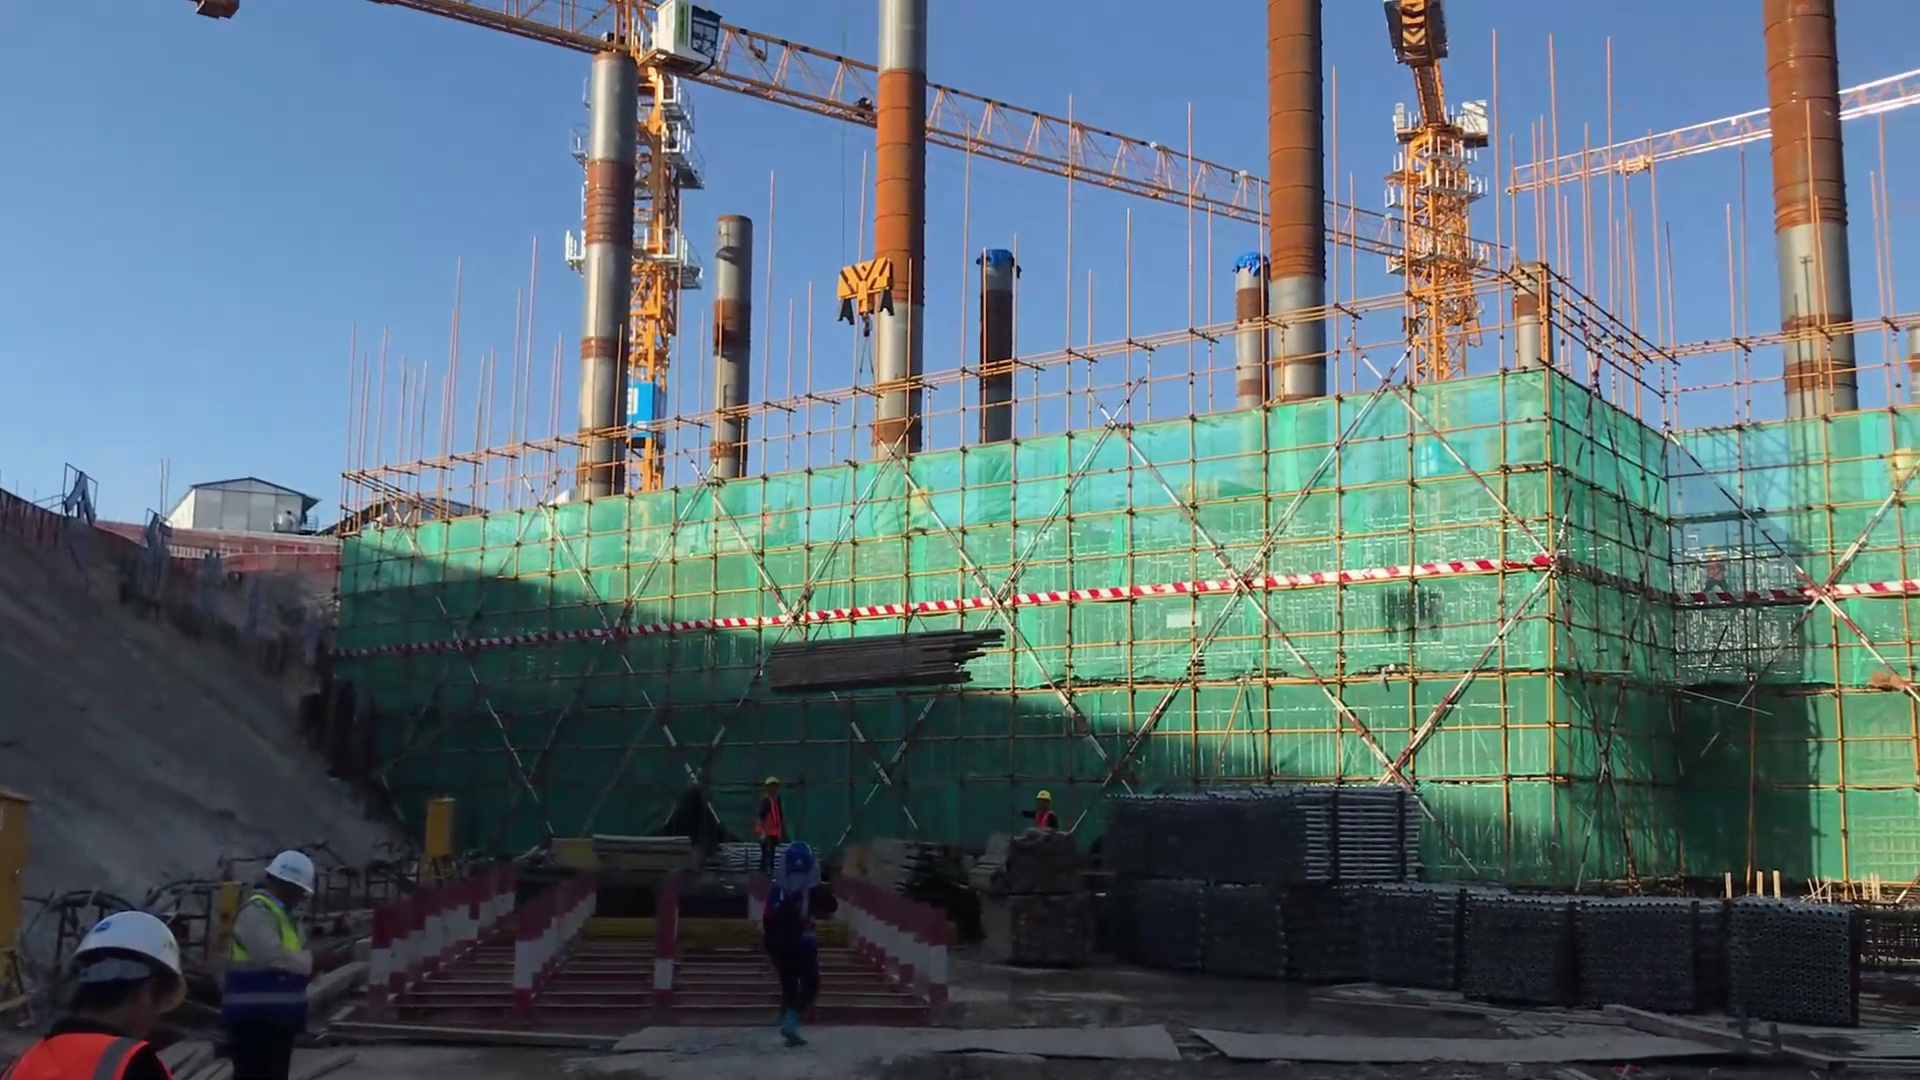ebox: (418, 795, 463, 859)
helmet: (55, 896, 206, 1020), (254, 833, 354, 916), (768, 847, 838, 911), (1029, 785, 1048, 806), (760, 775, 781, 793)
hook: (843, 250, 893, 330)
person: (6, 890, 192, 1080), (208, 825, 322, 1080), (756, 836, 836, 1052), (745, 773, 792, 874), (1026, 788, 1064, 839)
scaffold: (1209, 782, 1424, 882), (1724, 887, 1851, 1029), (1568, 893, 1715, 1010), (1196, 884, 1355, 983), (1453, 890, 1570, 1006), (1357, 888, 1455, 987), (1103, 875, 1197, 973), (1104, 789, 1209, 870)
vest: (232, 902, 335, 1017), (754, 799, 784, 831), (1031, 806, 1054, 831)
wood: (749, 627, 1023, 689)
